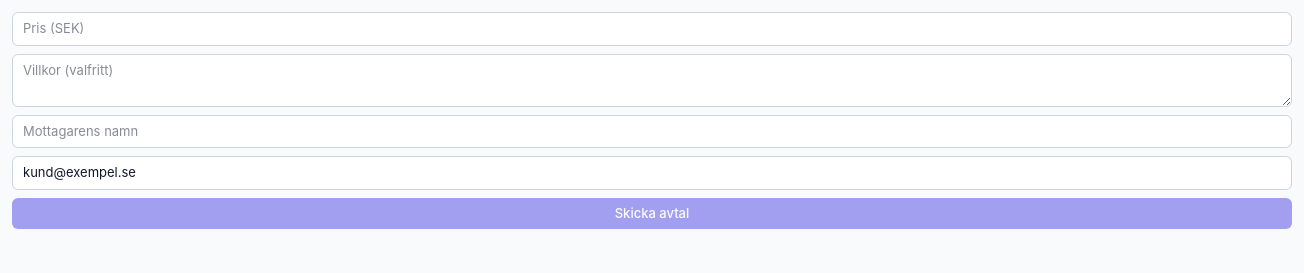
Scenario: SendContractForm › compact mode shows error message on failure
Type "5000" into the number field with placeholder "Pris (SEK)" at (652, 29), box [12,12,1292,46]
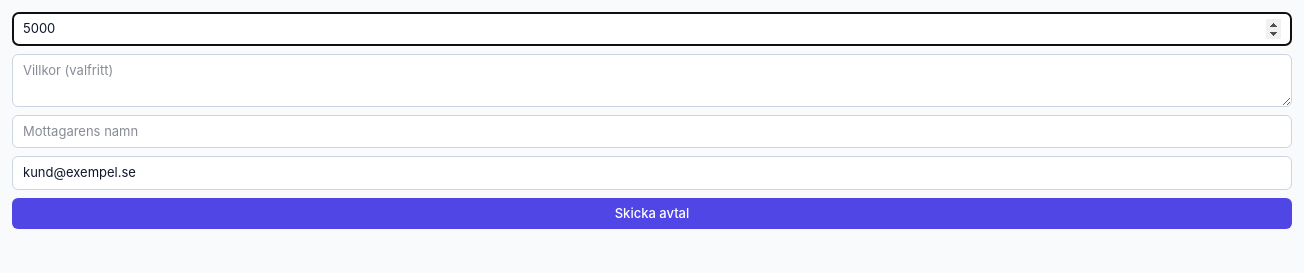
Click the button "Skicka avtal" at (652, 213), box [12,198,1292,229]
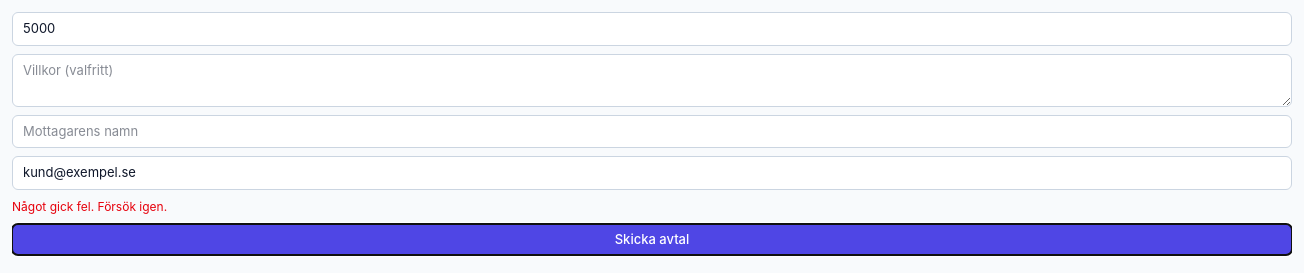
Now the text "Något gick fel. Försök igen." is shown, box [12,198,167,214]
